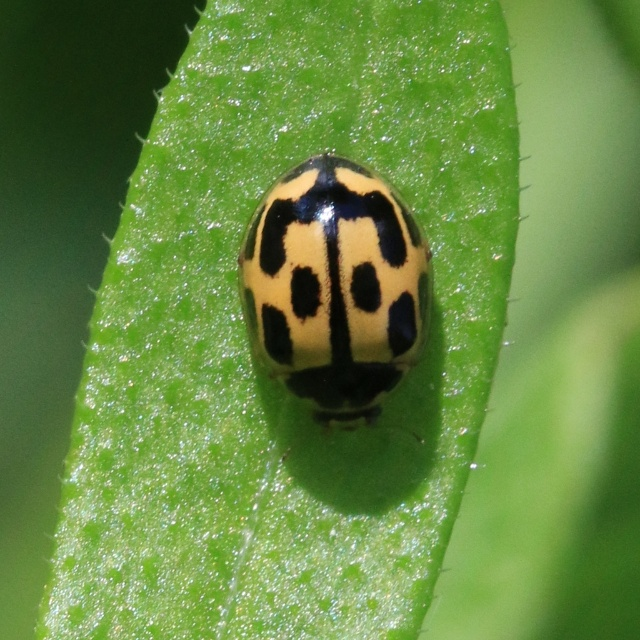Ladybug: (227, 140, 439, 457)
